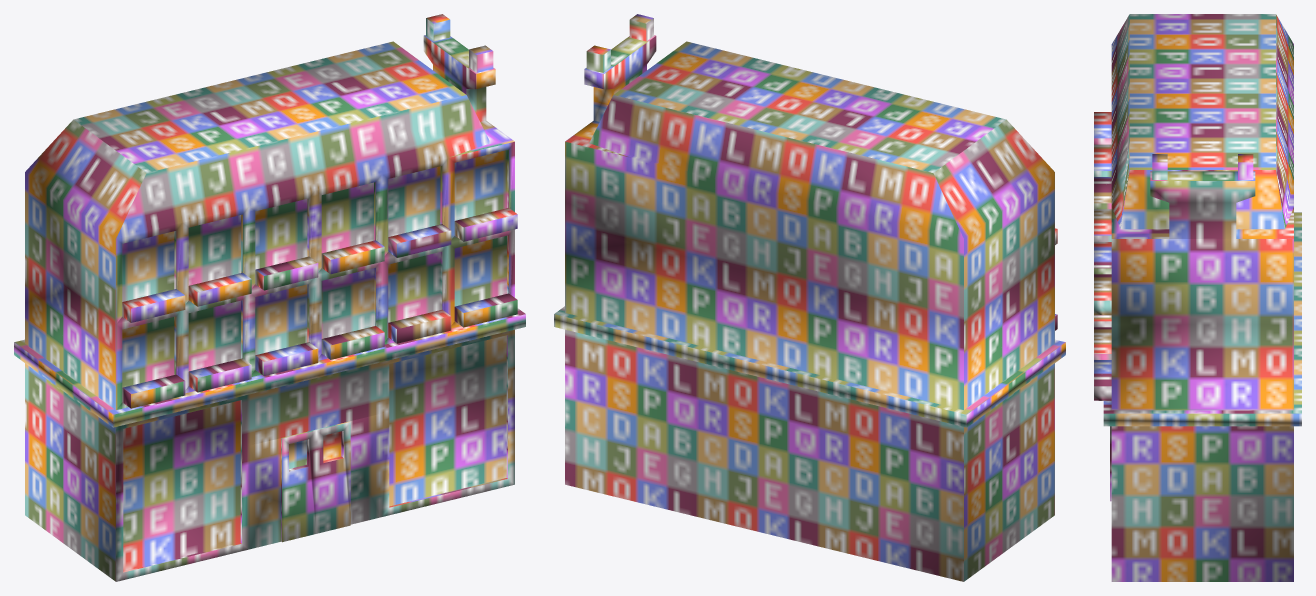
File: building_13.obj
The picture shows the model from 3 angles, left to right: view 1: azimuth 30°, elevation 25°; view 2: azimuth 150°, elevation 25°; view 3: azimuth 270°, elevation 25°; orthographic projection.
Visible parts, largest first — view 1: Cube3_copy6; view 2: Cube3_copy6; view 3: Cube3_copy6.
Part boxes in pixels (x1,y1,x2,y2): Cube3_copy6: (14, 14, 525, 581); Cube3_copy6: (554, 14, 1065, 581); Cube3_copy6: (1094, 14, 1301, 581).
Bounding box in the file's own units: 715 × 694 × 312.
